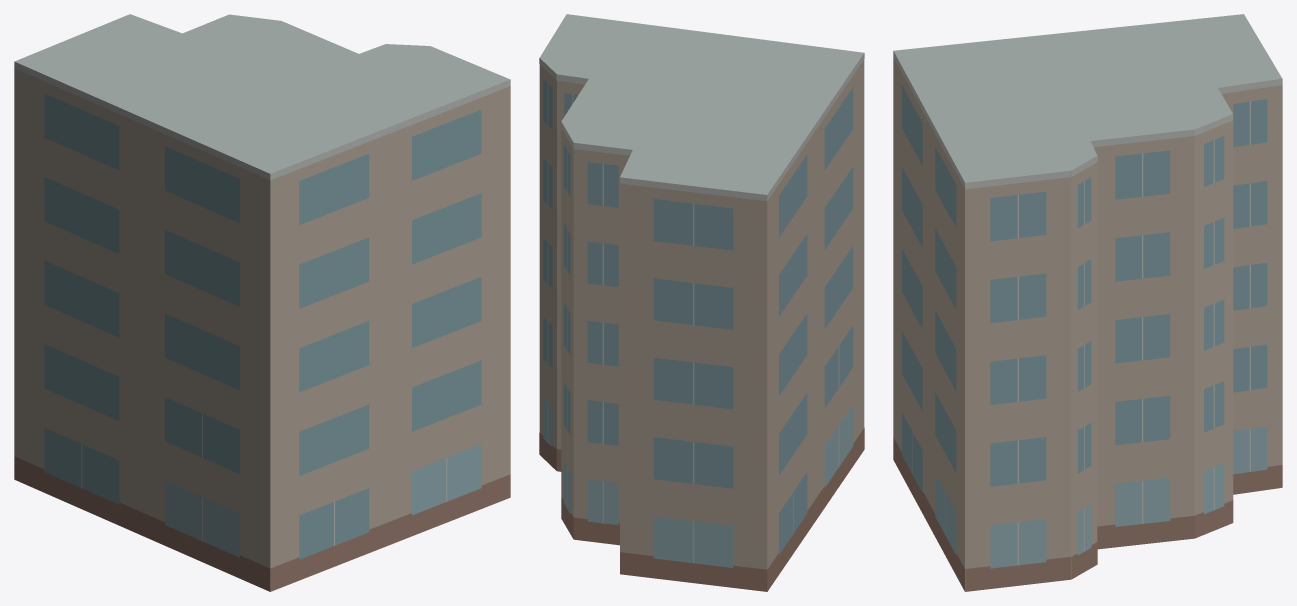
File: survey-upis-32713772.glb
The picture shows the model from 3 angles, left to right: view 1: azimuth 30°, elevation 25°; view 2: azimuth 150°, elevation 25°; view 3: azimuth 270°, elevation 25°; orthographic projection. The views are drawn at different scales.
Visible parts, largest first — view 1: survey-upis-32713772.tmp; view 2: survey-upis-32713772.tmp; view 3: survey-upis-32713772.tmp.
Part boxes in pixels (left/top/right/bottom): survey-upis-32713772.tmp: left=14, top=14, right=510, bottom=591; survey-upis-32713772.tmp: left=539, top=14, right=864, bottom=591; survey-upis-32713772.tmp: left=893, top=14, right=1282, bottom=591.
Bounding box in the file's own units: 13.75 × 15.51 × 13.38.
